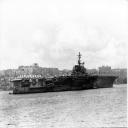Portanaves: (10, 50, 121, 97)
